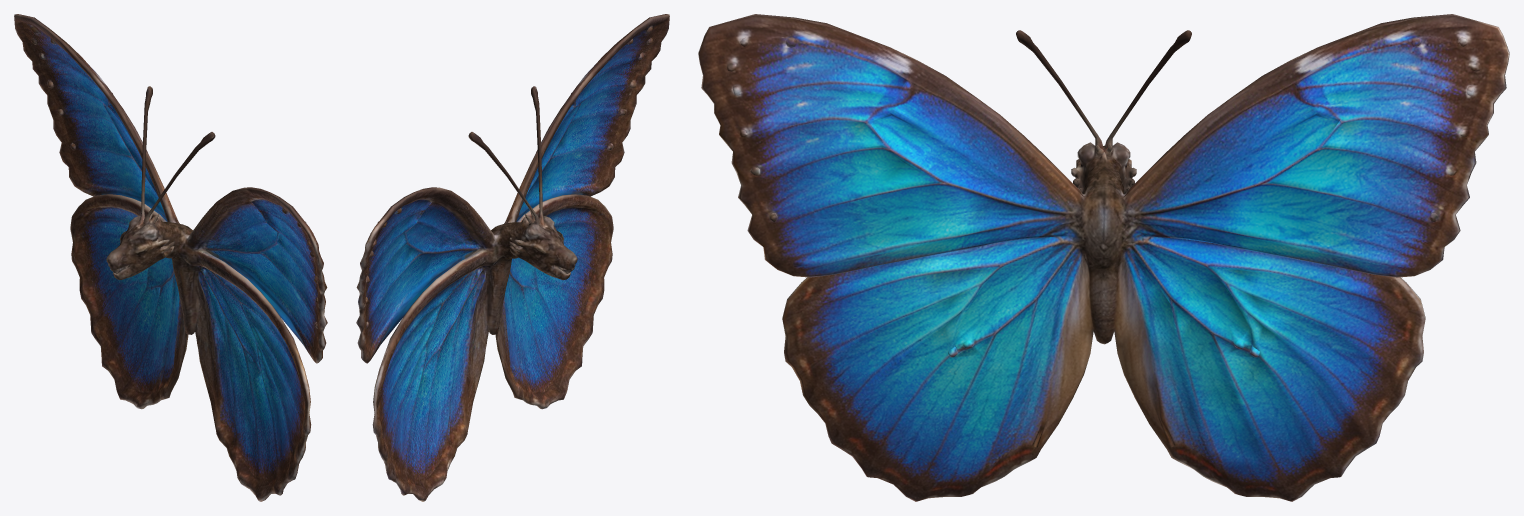
3 views of the same model, side by side, from view 1: azimuth 30°, elevation 25°; view 2: azimuth 150°, elevation 25°; view 3: azimuth 270°, elevation 25° (orthographic). The views are drawn at different scales.
Parts seen in each view (by area): view 1: tripo_node_81ec586b-f3c3-4e1a-a227-cd857f851ee9; view 2: tripo_node_81ec586b-f3c3-4e1a-a227-cd857f851ee9; view 3: tripo_node_81ec586b-f3c3-4e1a-a227-cd857f851ee9.
Part boxes in pixels (box(x1,y1,x2,y2)): tripo_node_81ec586b-f3c3-4e1a-a227-cd857f851ee9: box(14, 14, 327, 501); tripo_node_81ec586b-f3c3-4e1a-a227-cd857f851ee9: box(356, 14, 669, 501); tripo_node_81ec586b-f3c3-4e1a-a227-cd857f851ee9: box(698, 14, 1509, 501).
Size of the model in its own units: 0.0311 by 0.1 by 0.1572.
Materials: 1 (1 with a texture image).
